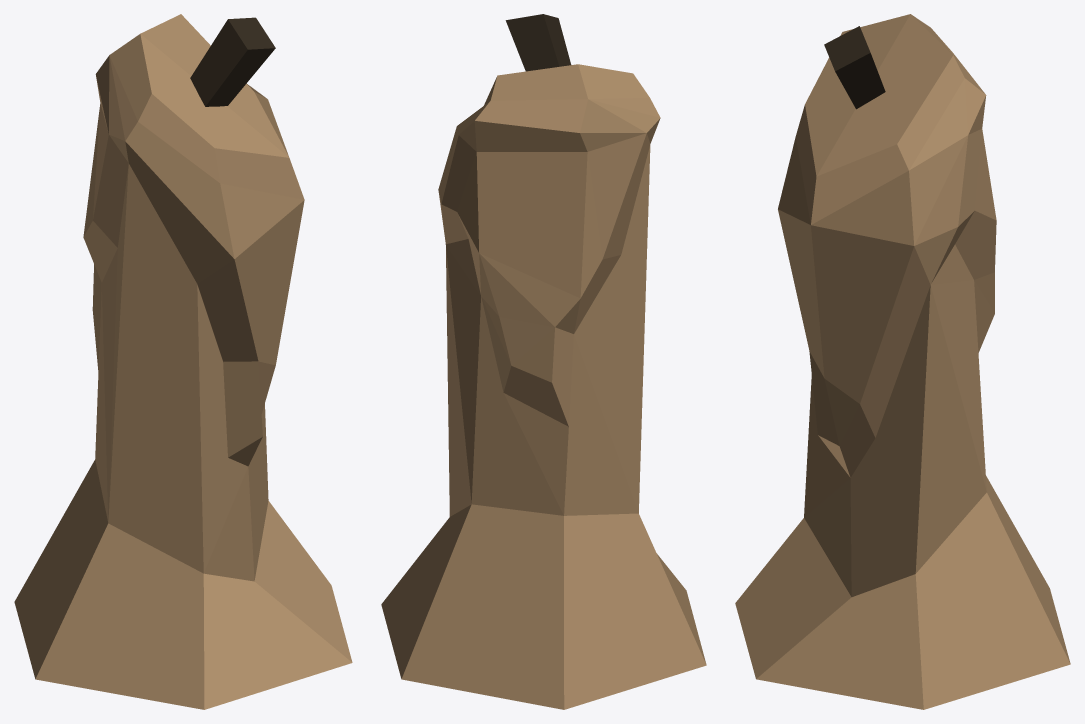
Rendered from SM_Prop_Candle_02.fbx.
The picture shows the model from 3 angles, left to right: view 1: azimuth 30°, elevation 25°; view 2: azimuth 150°, elevation 25°; view 3: azimuth 270°, elevation 25°; orthographic projection. The views are drawn at different scales.
Parts seen in each view (by area): view 1: SM_Prop_Candle_02; view 2: SM_Prop_Candle_02; view 3: SM_Prop_Candle_02.
Boxes of the visible parts, bbox=[...] form: SM_Prop_Candle_02: bbox=[14, 14, 352, 709]; SM_Prop_Candle_02: bbox=[381, 14, 706, 709]; SM_Prop_Candle_02: bbox=[735, 14, 1070, 709].
Bounding box in the file's own units: 9.85 × 20.06 × 9.1.
